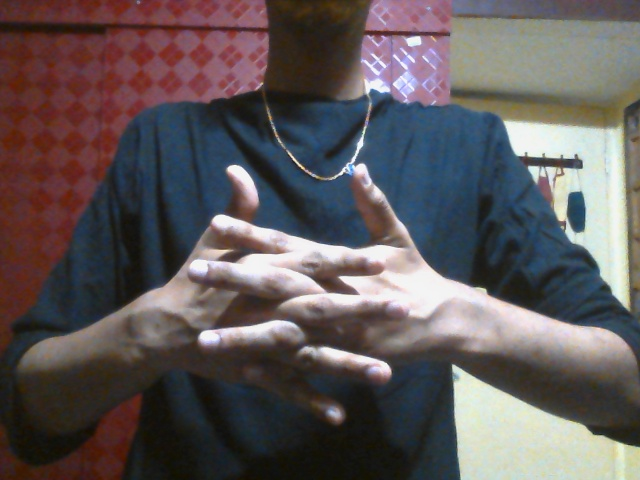W: (164, 164, 427, 427)
